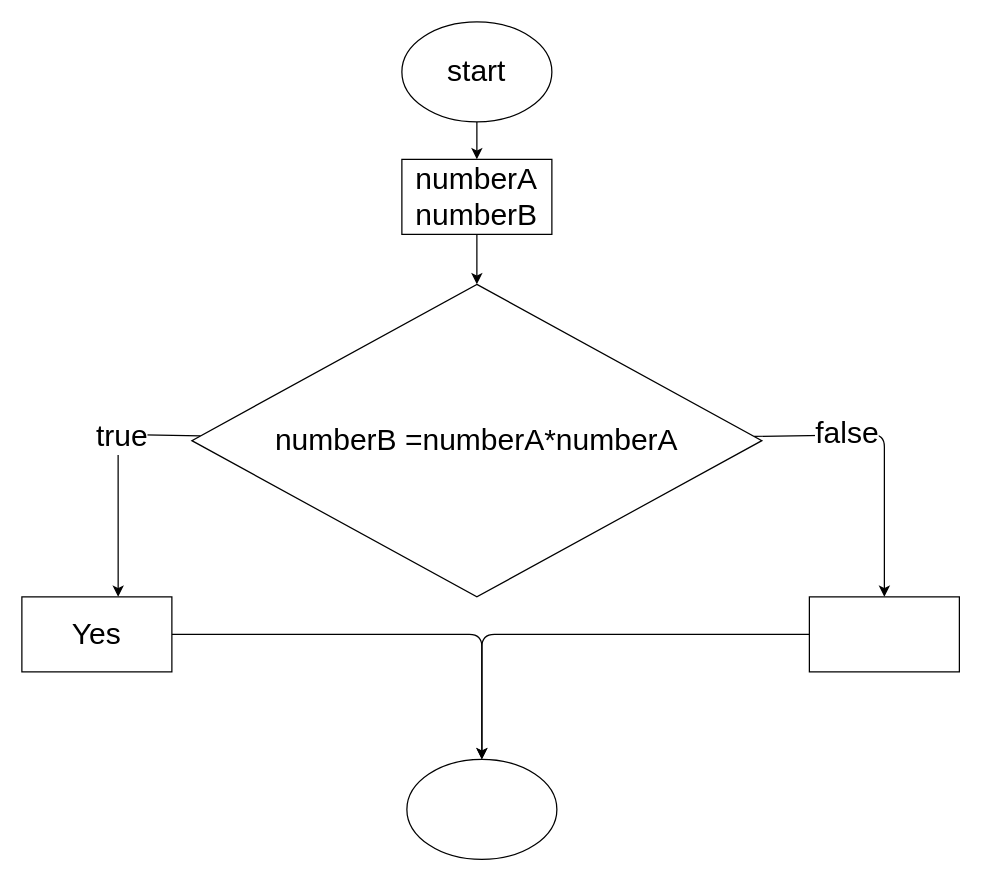
The diagram is 981 pixels wide and 881 high, and some of its shapes have lost their labels. Each missing label, with the centre of its shape:
"end" goes at (x=481, y=808).
"No" goes at (x=883, y=634).
